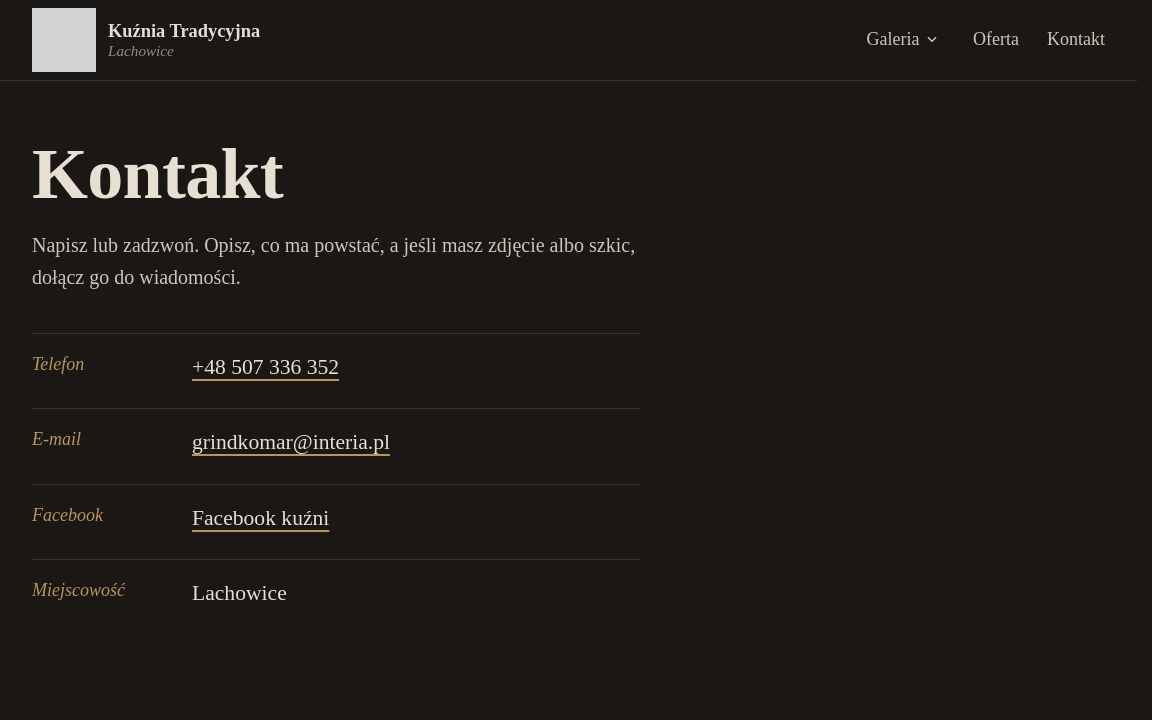
it: main navigation (wide screens) › closes the panel on a click outside it
What coordinates should you click on to do the following:
click the button "Galeria"
I would click on:
 (903, 40)
Its box is top-left (860, 14), bottom-right (945, 66).
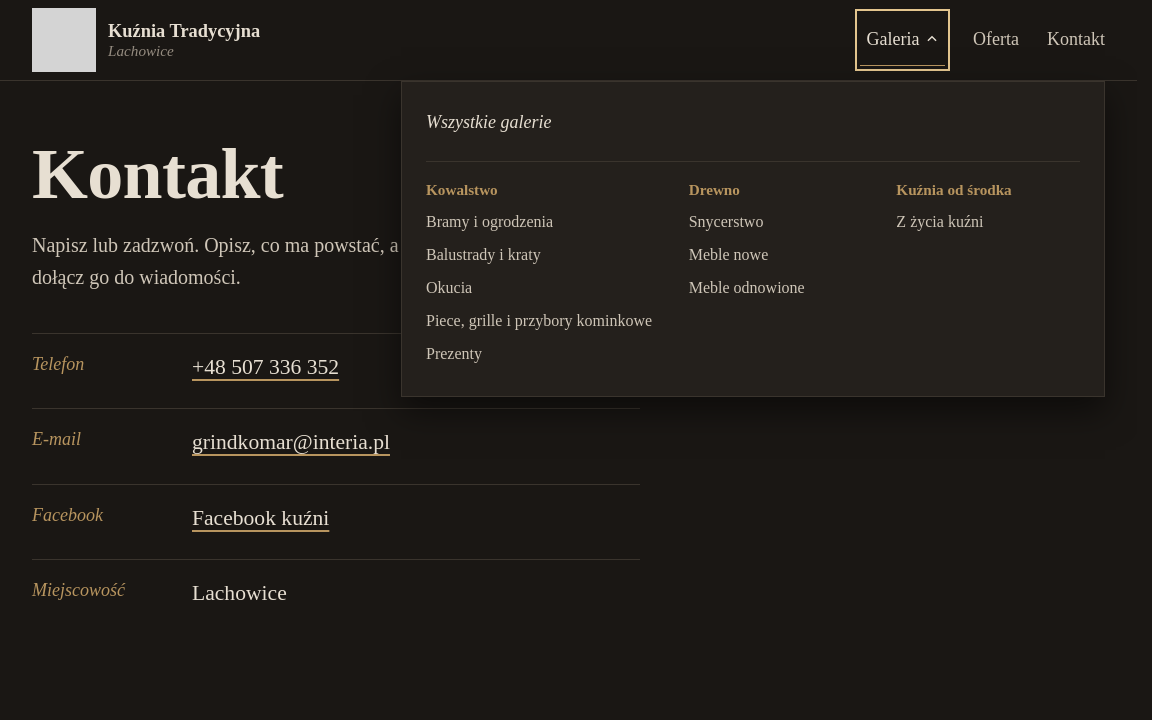
What coordinates should you click on to do the following:
click the heading "Kontakt"
I would click on:
 (158, 175)
Its box is top-left (32, 137), bottom-right (283, 213).
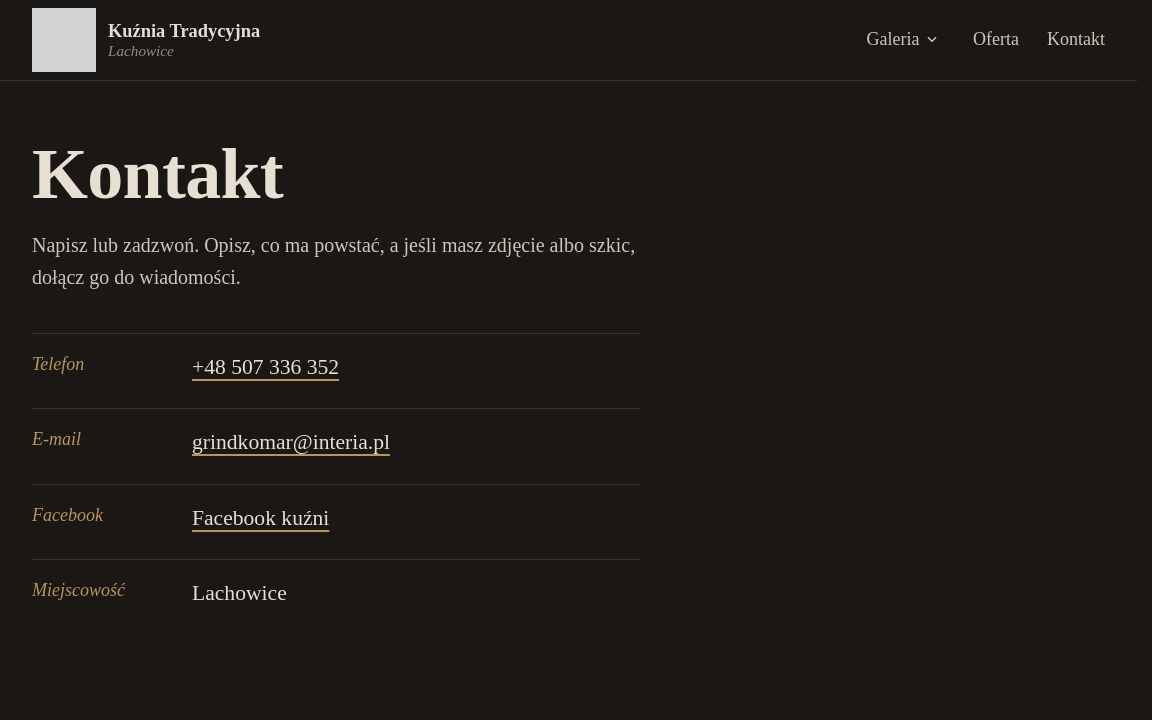
Result: the button "Galeria" is collapsed at top-left (860, 14), bottom-right (945, 66)
